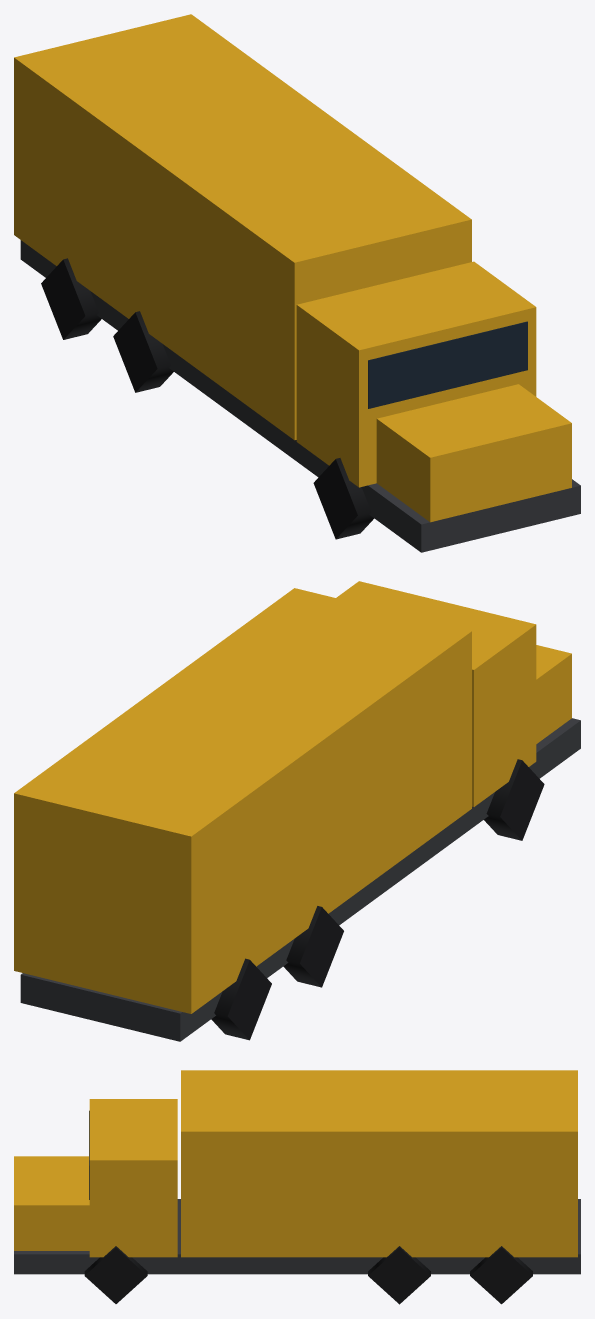
Rendered from veh_ground_bus_a06_lod2.glb.
The picture shows the model from 3 angles, top to bottom: view 1: azimuth 30°, elevation 25°; view 2: azimuth 150°, elevation 25°; view 3: azimuth 270°, elevation 25°; orthographic projection. The views are drawn at different scales.
Parts seen in each view (by area): view 1: body, wheel_4, wheel_0, wheel_2; view 2: body, wheel_0, wheel_2, wheel_4; view 3: body, wheel_5, wheel_1, wheel_3.
Part boxes in pixels (left/top/right/bottom): body: left=14, top=14, right=580, bottom=552; wheel_4: left=313, top=458, right=373, bottom=539; wheel_0: left=41, top=258, right=101, bottom=339; wheel_2: left=113, top=311, right=173, bottom=392; body: left=14, top=581, right=580, bottom=1041; wheel_0: left=211, top=958, right=271, bottom=1040; wheel_2: left=283, top=906, right=343, bottom=987; wheel_4: left=484, top=759, right=544, bottom=840; body: left=14, top=1070, right=580, bottom=1274; wheel_5: left=84, top=1246, right=147, bottom=1303; wheel_1: left=470, top=1246, right=532, bottom=1304; wheel_3: left=368, top=1246, right=430, bottom=1304.
Bounding box in the file's own units: 2.42 × 3 × 9.
